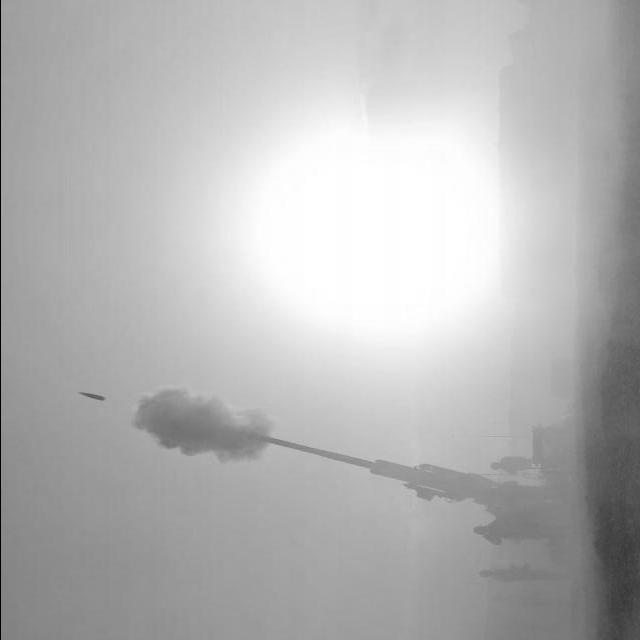missile: (73, 388, 109, 405)
